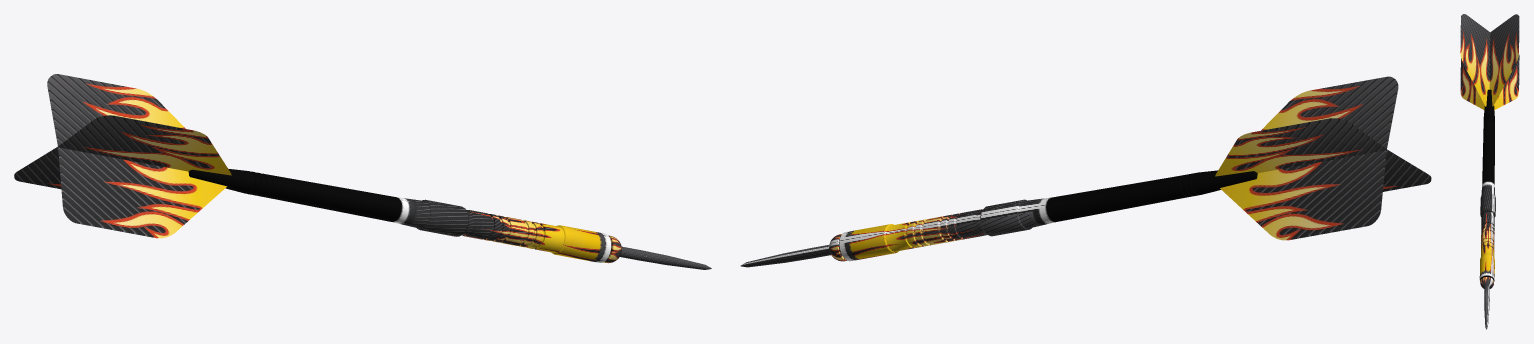
Rendered from firedart.glb.
3 views of the same model, side by side, from view 1: azimuth 30°, elevation 25°; view 2: azimuth 150°, elevation 25°; view 3: azimuth 270°, elevation 25° (orthographic). The views are drawn at different scales.
Parts seen in each view (by area): view 1: darts_obj; view 2: darts_obj; view 3: darts_obj.
Boxes of the visible parts, x1,y1,x2,y2 form: darts_obj: (14, 74, 711, 269); darts_obj: (740, 76, 1431, 267); darts_obj: (1460, 14, 1519, 329).
Bounding box in the file's own units: 145 × 67.23 × 22.2.
Materials: 1 (1 with a texture image).
